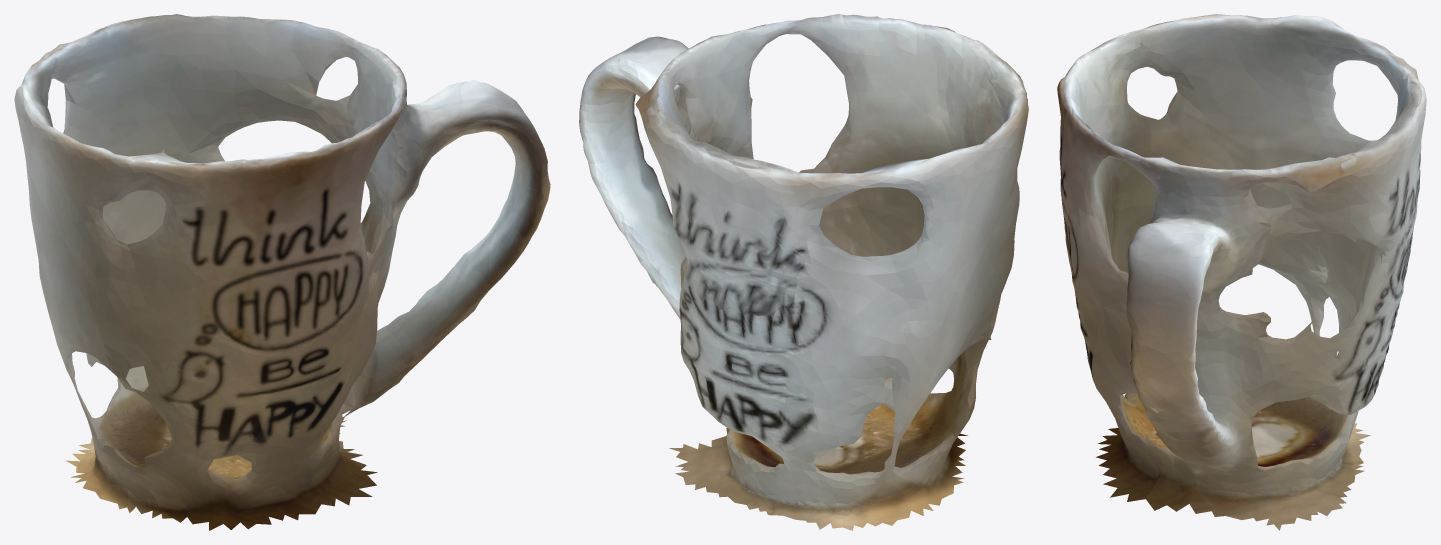
File: Tasse.gltf
3 renders of one model, left to right at view 1: azimuth 30°, elevation 25°; view 2: azimuth 150°, elevation 25°; view 3: azimuth 270°, elevation 25°, orthographic. The views are drawn at different scales.
Bounding box in the file's own units: 0.1377 × 0.1117 × 0.0998.
1 material, 1 textured.
